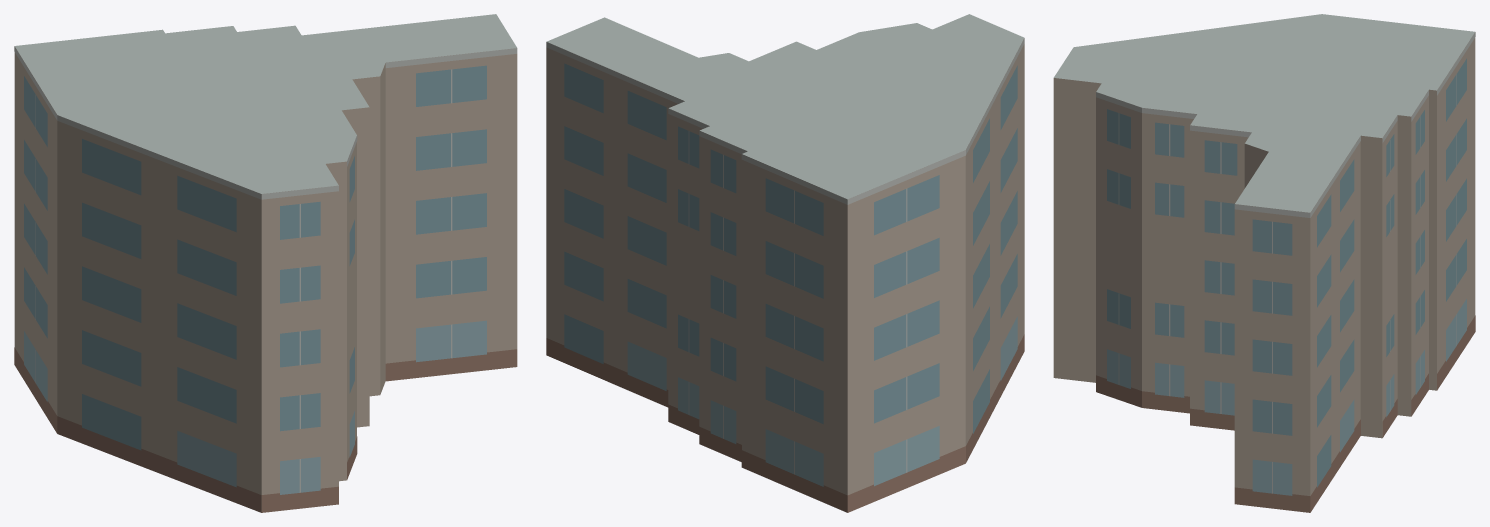
Rendered from survey-upis-32658395.glb.
3 renders of one model, left to right at view 1: azimuth 30°, elevation 25°; view 2: azimuth 150°, elevation 25°; view 3: azimuth 270°, elevation 25°, orthographic. The views are drawn at different scales.
Parts seen in each view (by area): view 1: survey-upis-32658395.tmp; view 2: survey-upis-32658395.tmp; view 3: survey-upis-32658395.tmp.
Part boxes in pixels (left/top/right/bottom): survey-upis-32658395.tmp: left=14, top=14, right=517, bottom=512; survey-upis-32658395.tmp: left=546, top=14, right=1024, bottom=512; survey-upis-32658395.tmp: left=1053, top=14, right=1475, bottom=512.
Size of the model in its own units: 19.47 by 13.7 by 17.46.
